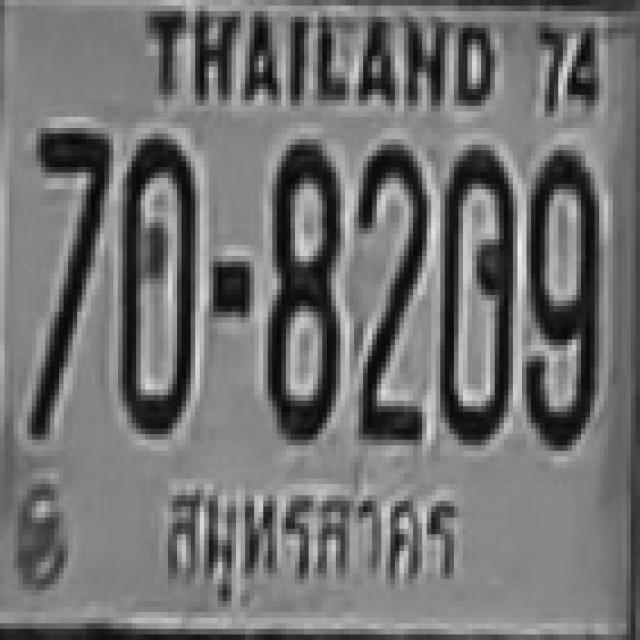0: (526, 145, 594, 334)
2: (354, 142, 427, 387)
7: (32, 125, 109, 326)
8: (263, 136, 336, 437)
9: (522, 195, 595, 445)
SamutSakhon: (150, 473, 474, 607)
